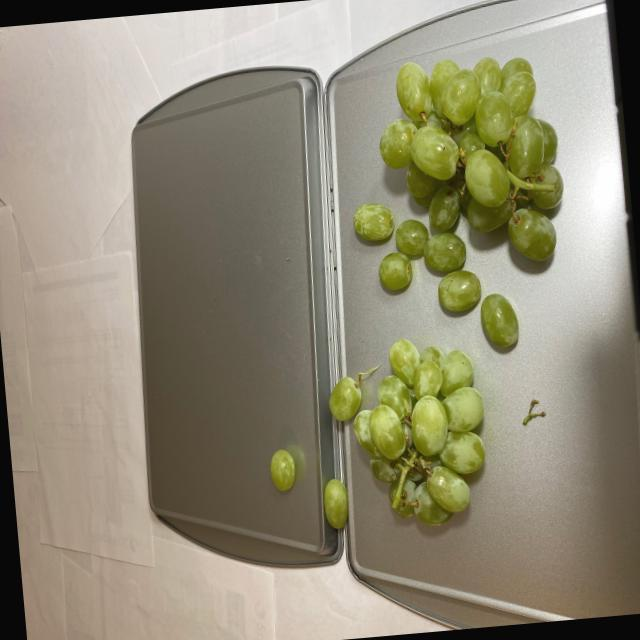grapes: (235, 45, 596, 538)
